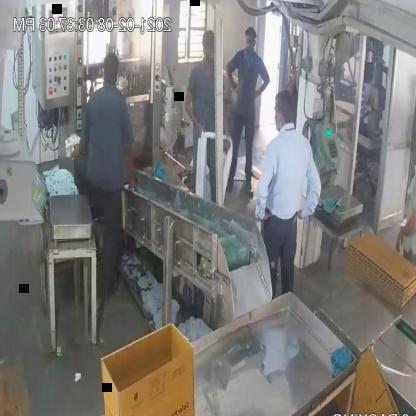no_glove: (298, 144, 330, 224), (389, 198, 416, 263), (252, 154, 271, 235), (182, 89, 211, 140)
